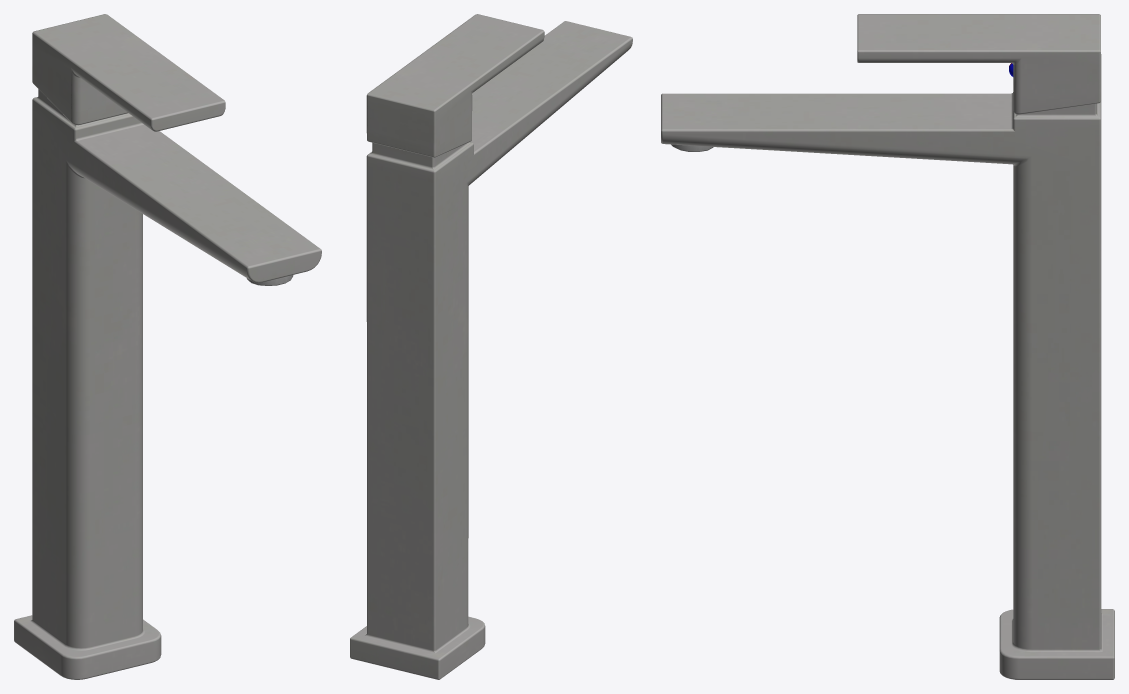
File: basin-mixer-tall.glb
3 views of the same model, side by side, from view 1: azimuth 30°, elevation 25°; view 2: azimuth 150°, elevation 25°; view 3: azimuth 270°, elevation 25° (orthographic). The views are drawn at different scales.
Visible parts, largest first — view 1: faucet07; view 2: faucet07; view 3: faucet07.
Part boxes in pixels (x1,y1,x2,y2): faucet07: (14,14,321,679); faucet07: (350,14,632,679); faucet07: (661,14,1114,679).
Size of the model in its own units: 0.0444 by 0.2649 by 0.1746.
Materials: 1 (1 with a texture image).
